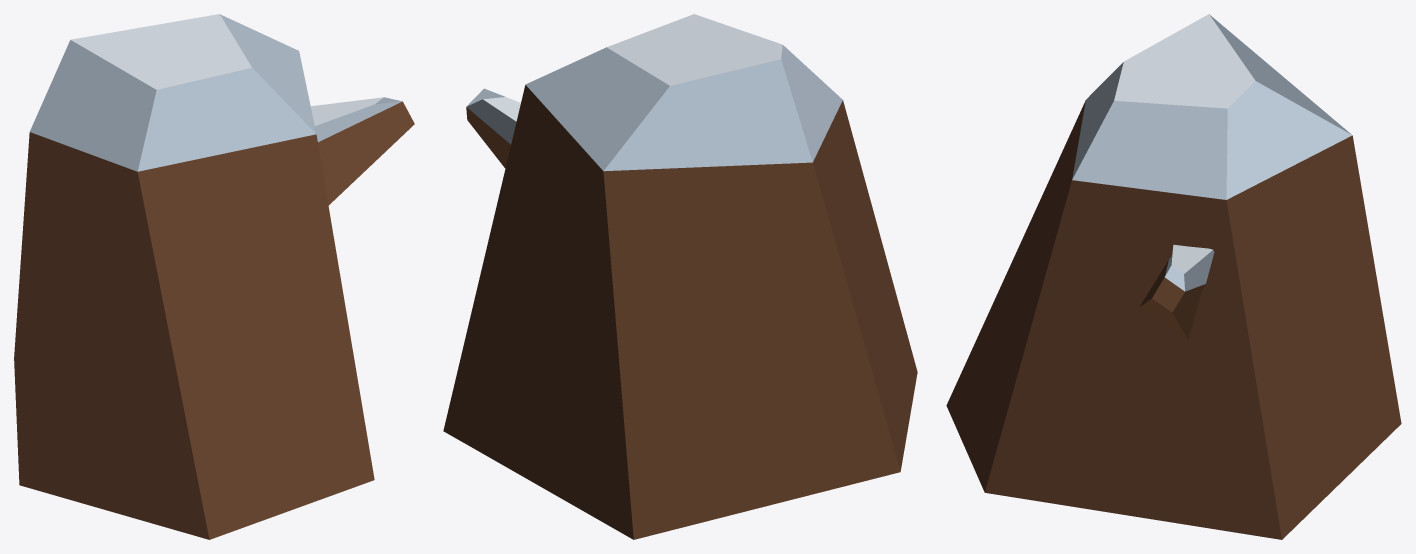
File: StumpWinter1_Alt1.fbx
3 views of the same model, side by side, from view 1: azimuth 30°, elevation 25°; view 2: azimuth 150°, elevation 25°; view 3: azimuth 270°, elevation 25° (orthographic). The views are drawn at different scales.
Parts seen in each view (by area): view 1: StumpWinter1_Alt1; view 2: StumpWinter1_Alt1; view 3: StumpWinter1_Alt1.
Part boxes in pixels (x1=…): StumpWinter1_Alt1: x1=14, y1=14, x2=414, y2=539; StumpWinter1_Alt1: x1=443, y1=14, x2=917, y2=539; StumpWinter1_Alt1: x1=946, y1=14, x2=1401, y2=539.
Bounding box in the file's own units: 0.5054 × 0.4796 × 0.5074.
